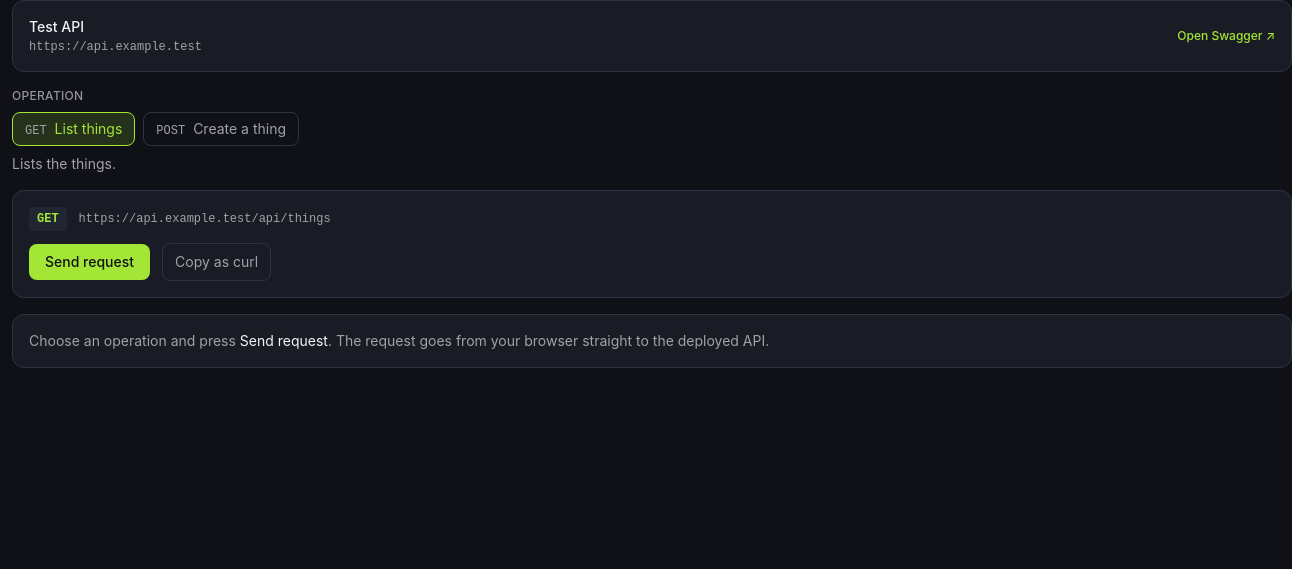
ApiTester › shows the status and the body of an error response
Click the button "Send request".
click(90, 262)  # box left=29, top=244, right=150, bottom=280
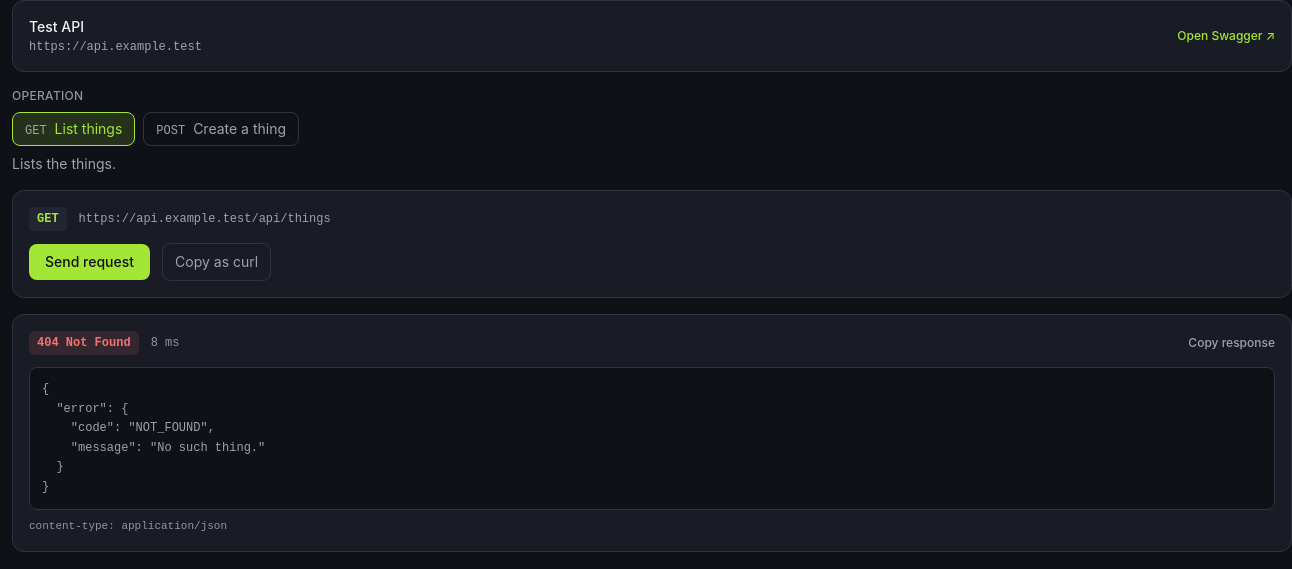
Result: the text "404 Not Found" is shown at left=29, top=331, right=139, bottom=355
Result: the text "NOT_FOUND" is shown at left=42, top=382, right=265, bottom=494
